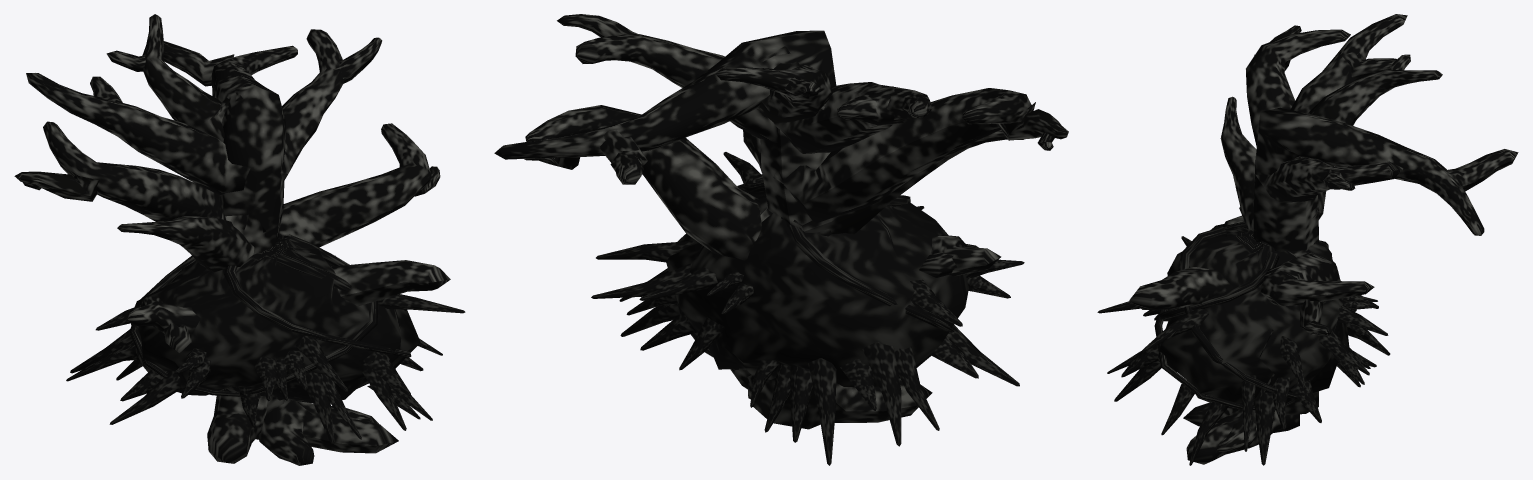
The model's file is CreTree09a.glb.
The picture shows the model from 3 angles, left to right: view 1: azimuth 30°, elevation 25°; view 2: azimuth 150°, elevation 25°; view 3: azimuth 270°, elevation 25°; orthographic projection. The views are drawn at different scales.
Visible parts, largest first — view 1: CreTree09a_limbs; view 2: CreTree09a_limbs; view 3: CreTree09a_limbs.
Boxes of the visible parts, x1,y1,x2,y2 form: CreTree09a_limbs: [14, 14, 465, 465]; CreTree09a_limbs: [494, 14, 1068, 465]; CreTree09a_limbs: [1097, 14, 1518, 465].
Bounding box in the file's own units: 6.81 × 5.48 × 5.99.
Materials: 1 (1 with a texture image).
